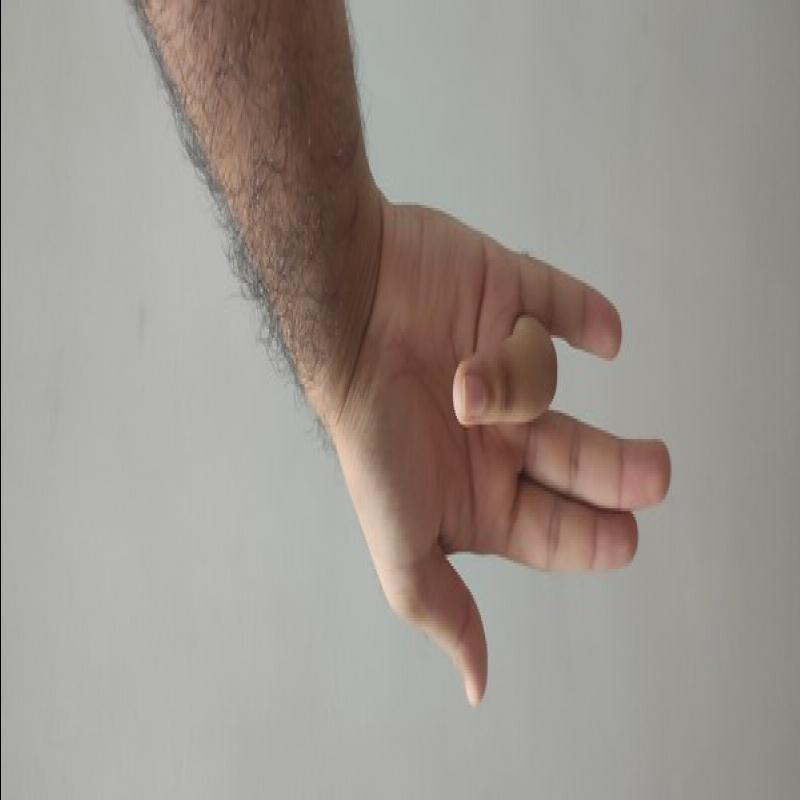Pathaaka: (341, 187, 680, 716)
